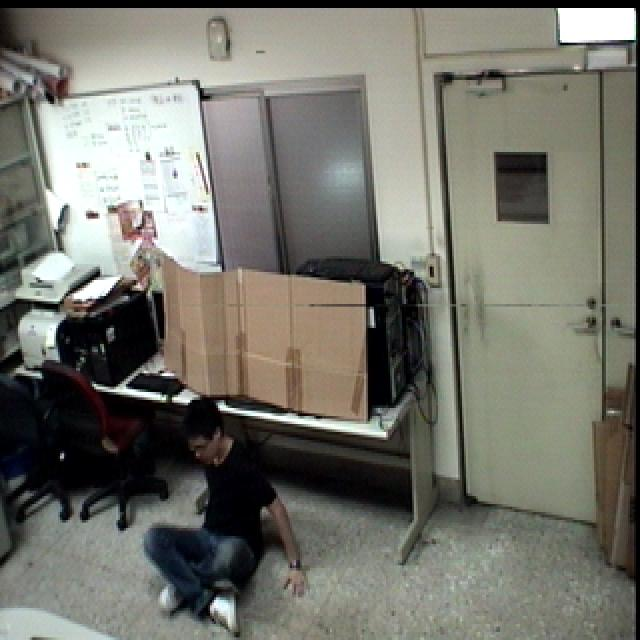sit: (144, 389, 315, 640)
